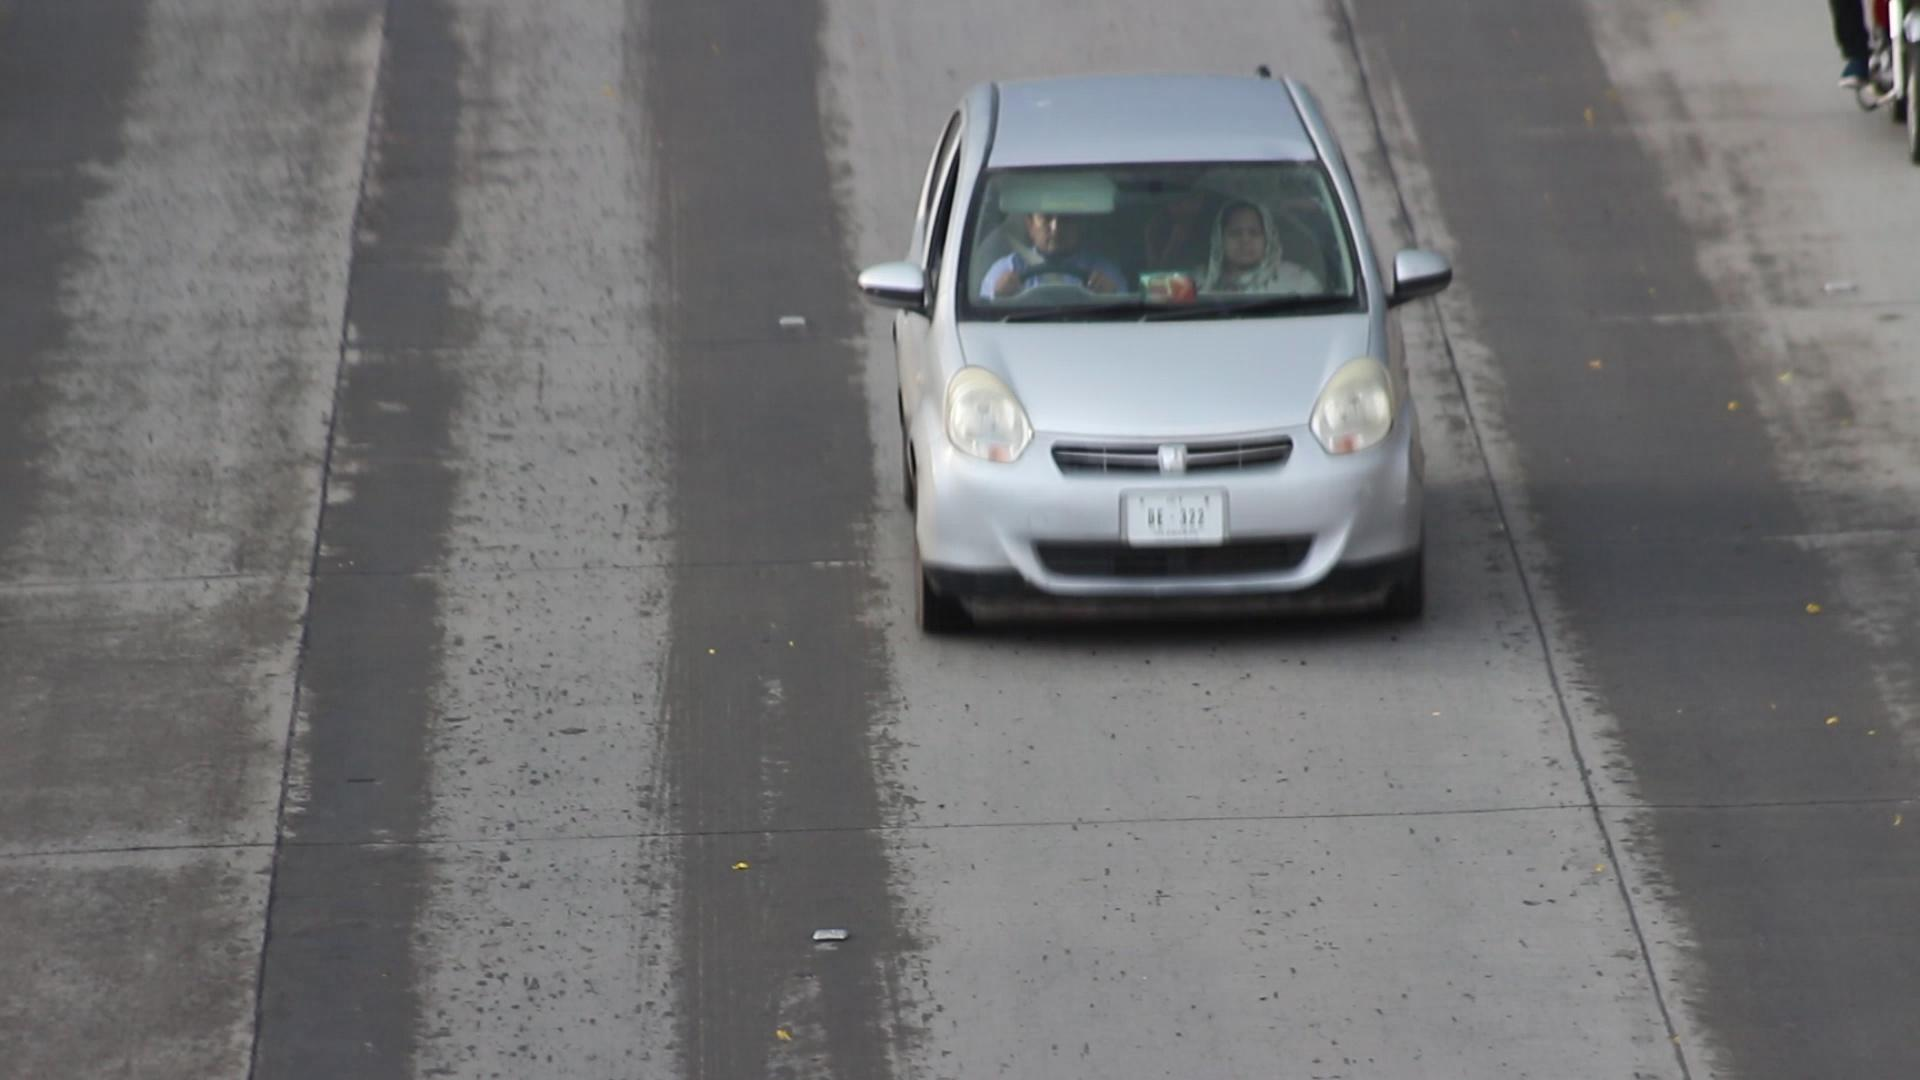windshield: (938, 137, 1387, 327)
